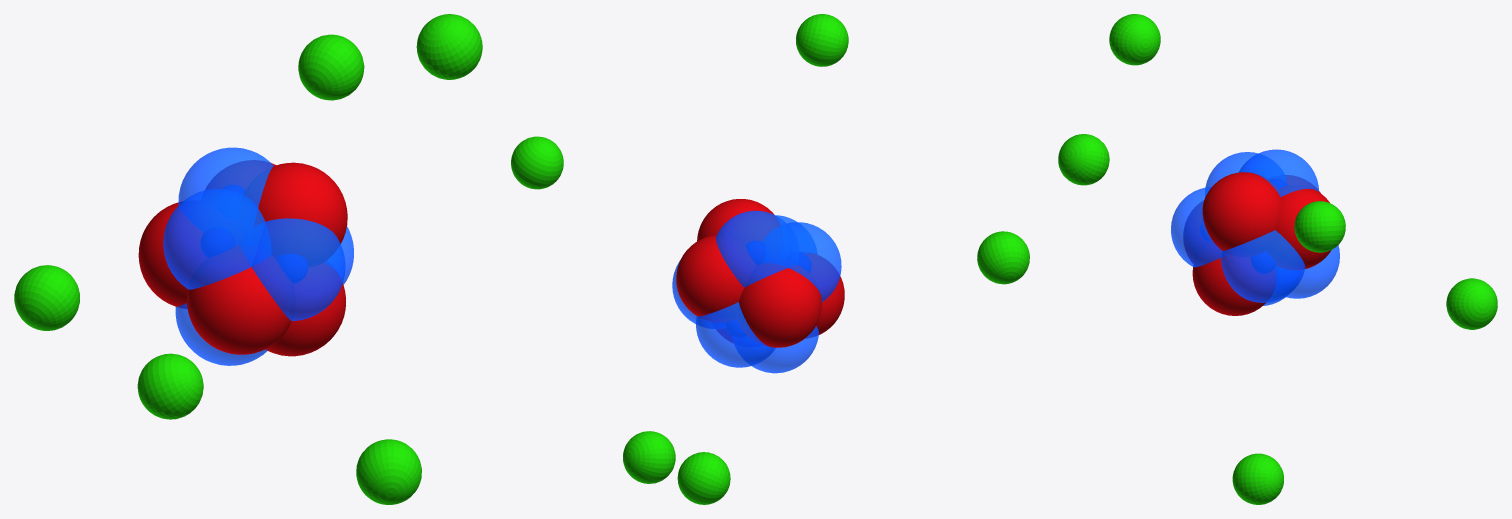
The model's file is rutherford-nuclear.glb.
3 views of the same model, side by side, from view 1: azimuth 30°, elevation 25°; view 2: azimuth 150°, elevation 25°; view 3: azimuth 270°, elevation 25° (orthographic). The views are drawn at different scales.
Visible parts, largest first — view 1: element_005_boron_nucleus, Sphere.005, Sphere, Sphere.002, Sphere.004, Sphere.003; view 2: element_005_boron_nucleus, Sphere.004, Sphere, Sphere.003, Sphere.002, Sphere.005; view 3: element_005_boron_nucleus, Sphere.004, Sphere.002, Sphere.003, Sphere, Sphere.005.
Part boxes in pixels (x1,y1,x2,y2): element_005_boron_nucleus: (138,147,353,365); Sphere.005: (298,34,364,100); Sphere: (137,353,203,419); Sphere.002: (356,439,421,504); Sphere.004: (416,14,482,79); Sphere.003: (14,265,79,330); element_005_boron_nucleus: (672,199,844,373); Sphere.004: (511,136,563,189); Sphere: (977,231,1029,284); Sphere.003: (677,452,730,504); Sphere.002: (623,431,675,483); Sphere.005: (796,14,848,66); element_005_boron_nucleus: (1171,149,1339,315); Sphere.004: (1294,201,1345,252); Sphere.002: (1232,453,1283,504); Sphere.003: (1446,278,1497,329); Sphere: (1058,134,1109,185); Sphere.005: (1109,14,1160,65).
Bounding box in the file's own units: 0.6156 × 0.6706 × 0.6157.
